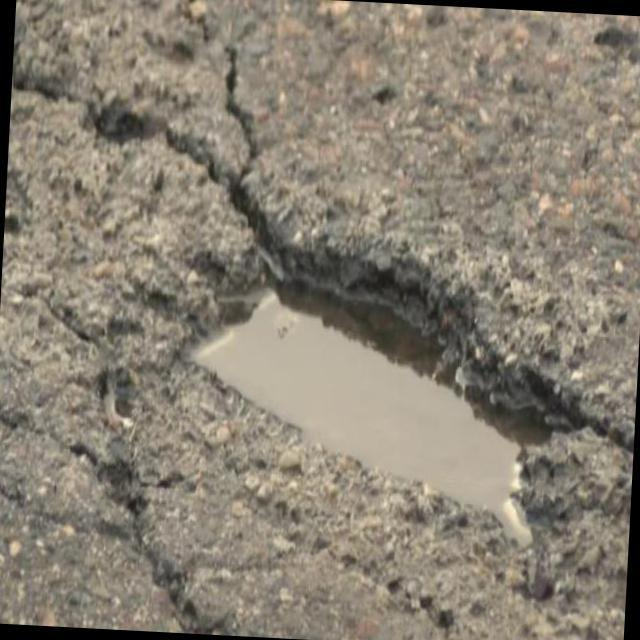Pothole: (193, 285, 543, 546)
